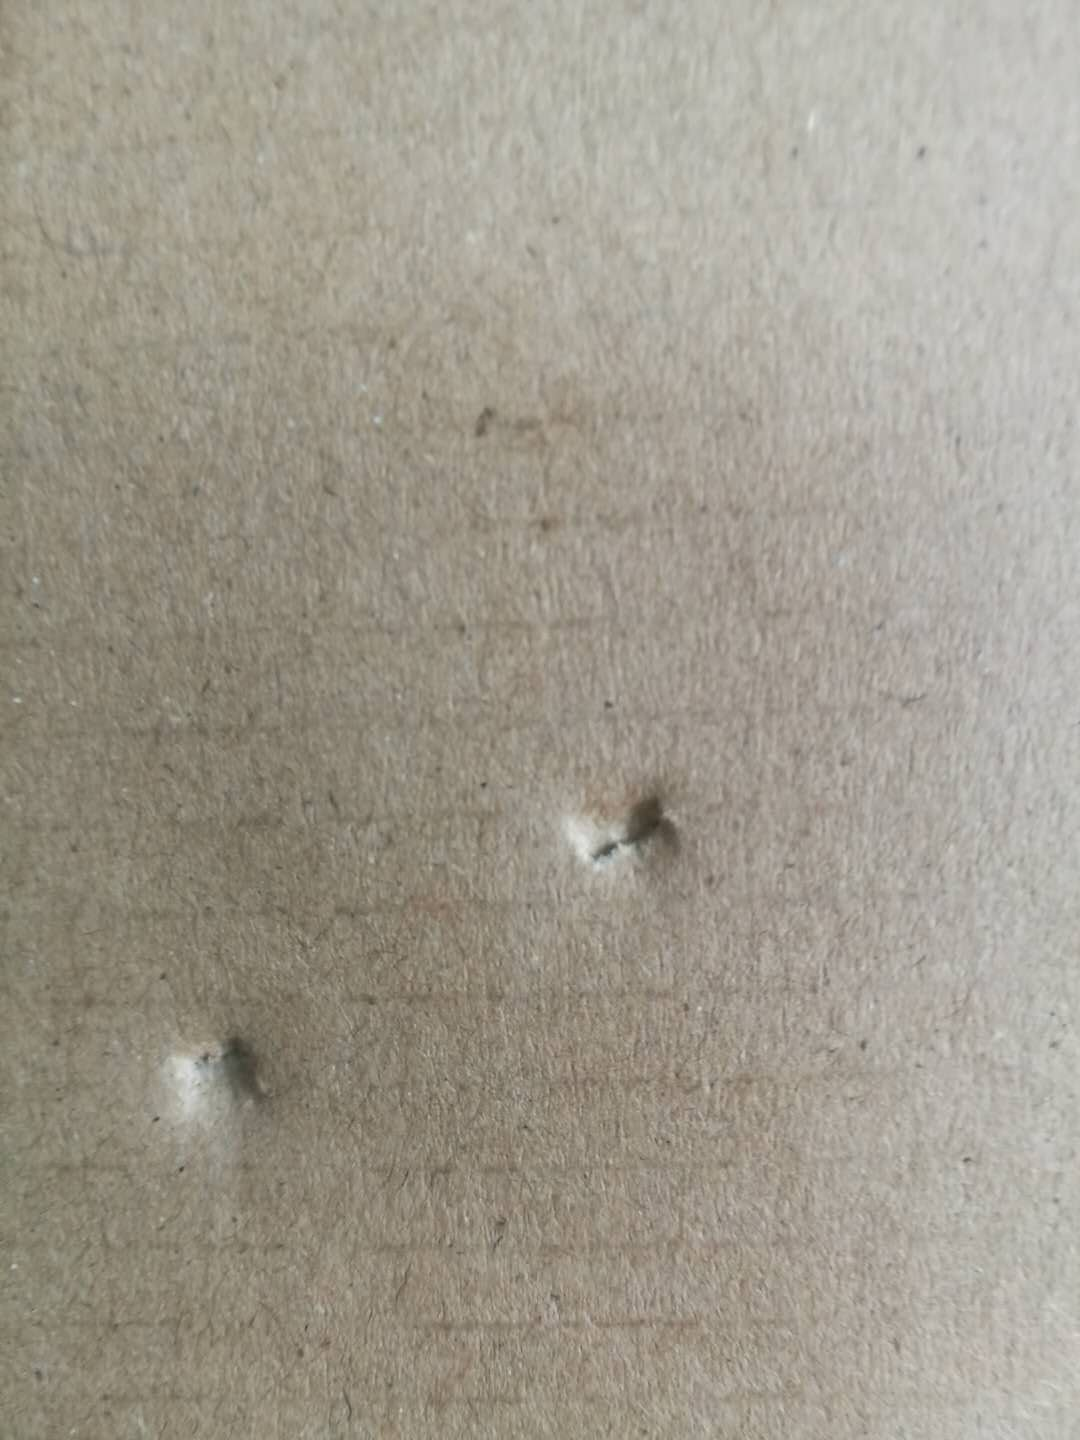defect: (537, 747, 722, 924), (137, 1013, 295, 1150)
